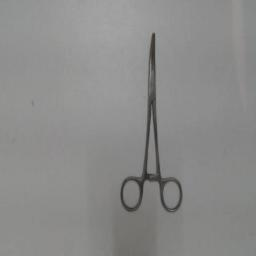Crile Artery Forceps: (116, 24, 188, 220)
